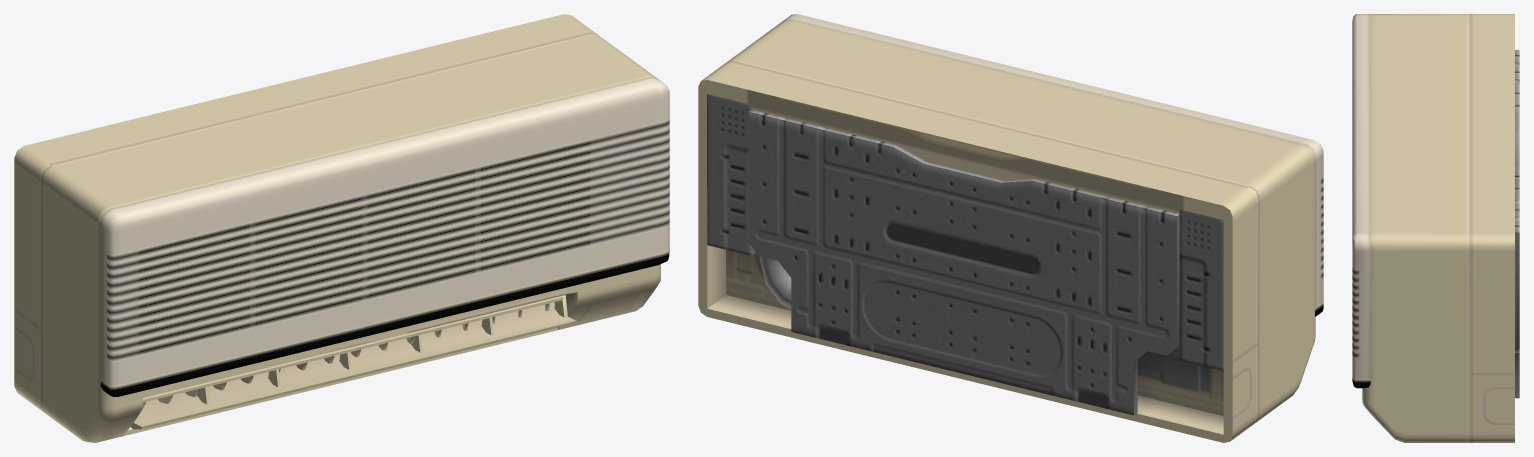
Rendered from lineartest.glb.
3 views of the same model, side by side, from view 1: azimuth 30°, elevation 25°; view 2: azimuth 150°, elevation 25°; view 3: azimuth 270°, elevation 25° (orthographic). The views are drawn at different scales.
Visible parts, largest first — view 1: Object_8, Object_4, Object_7, Object_9; view 2: Object_5, Object_4, Object_8, Object_3; view 3: Object_4, Object_8, Object_5.
Boxes of the visible parts, x1,y1,x2,y2 form: Object_8: (100, 77, 669, 388); Object_4: (14, 14, 660, 442); Object_7: (130, 295, 576, 429); Object_9: (100, 252, 669, 396); Object_5: (707, 94, 1223, 415); Object_4: (698, 19, 1315, 442); Object_8: (783, 14, 1323, 309); Object_3: (760, 256, 791, 308); Object_4: (1362, 14, 1514, 442); Object_8: (1352, 14, 1370, 381); Object_5: (1515, 49, 1519, 398).
Size of the model in its own units: 45 by 19.08 by 13.94.
Materials: 7 (7 with a texture image).
